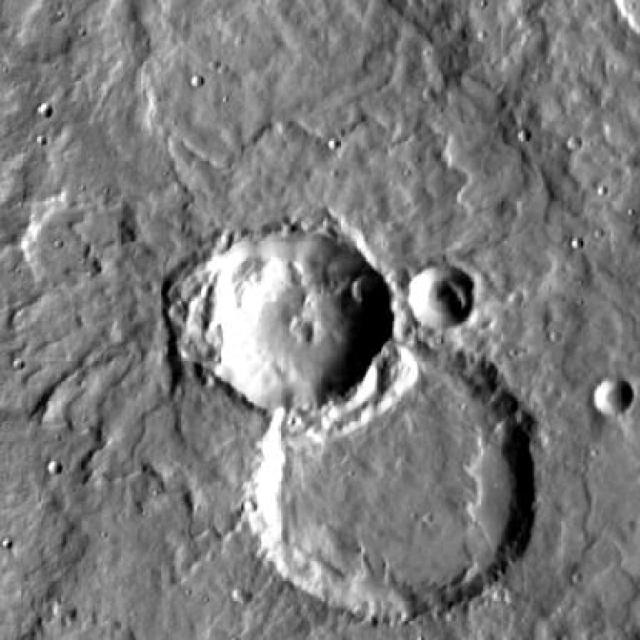crater: (241, 336, 533, 619), (188, 222, 382, 408), (22, 201, 107, 282), (404, 261, 474, 327), (596, 375, 636, 413), (346, 274, 377, 303), (232, 586, 248, 603)
